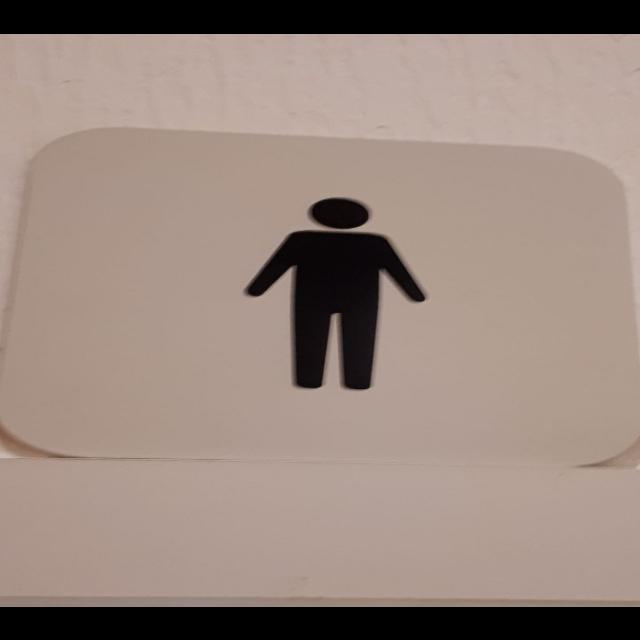wc nam: (0, 128, 639, 465)
